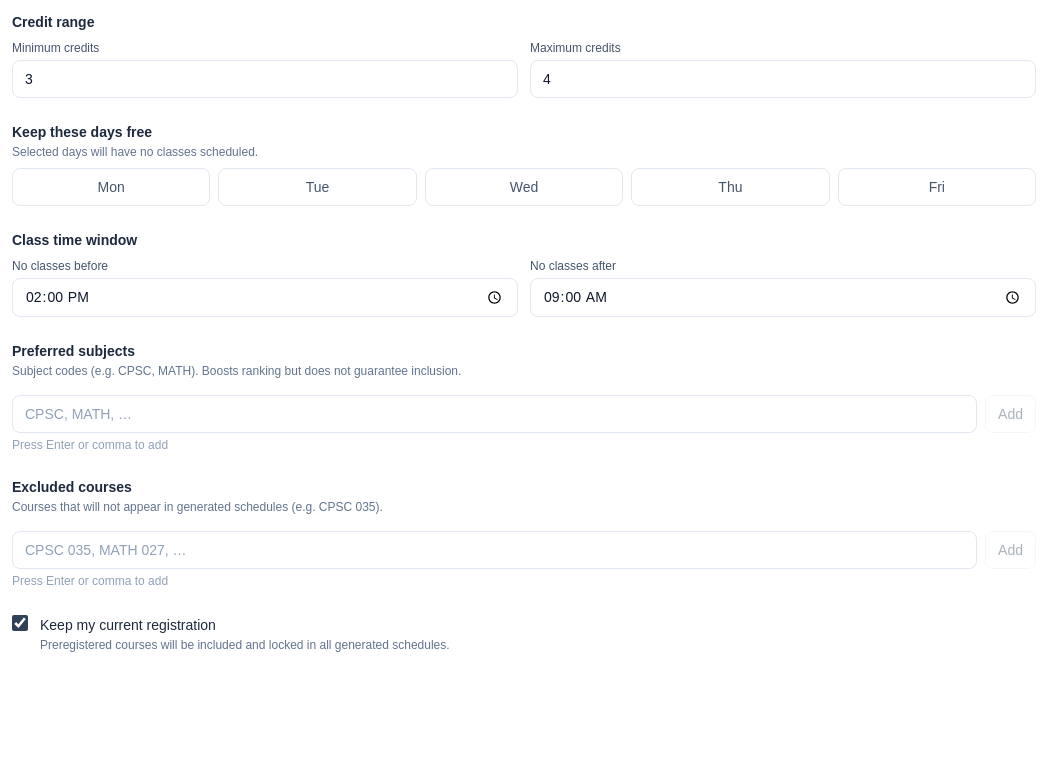
Test: PreferencesForm › validates time window ordering
Replace the text in the time field labelled "No classes after" with "08:00" at (783, 297), box top-left (530, 278), bottom-right (1036, 317)
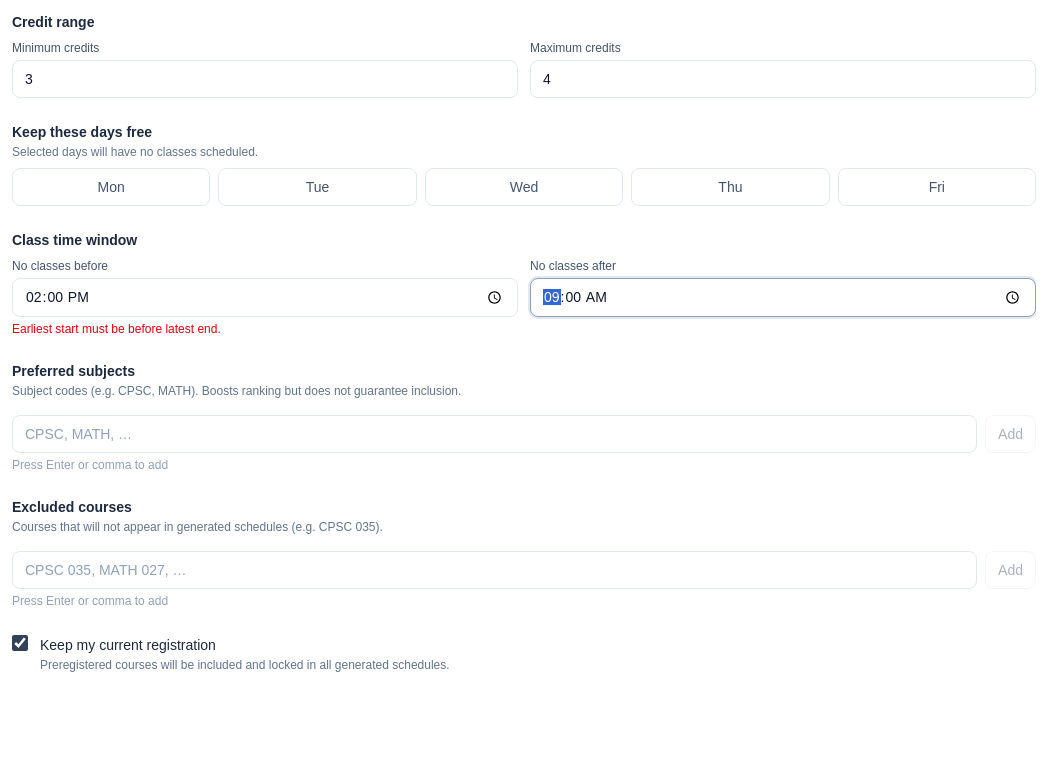
Check: the text "Earliest start must be before latest end." is shown, box top-left (12, 322), bottom-right (221, 336)
